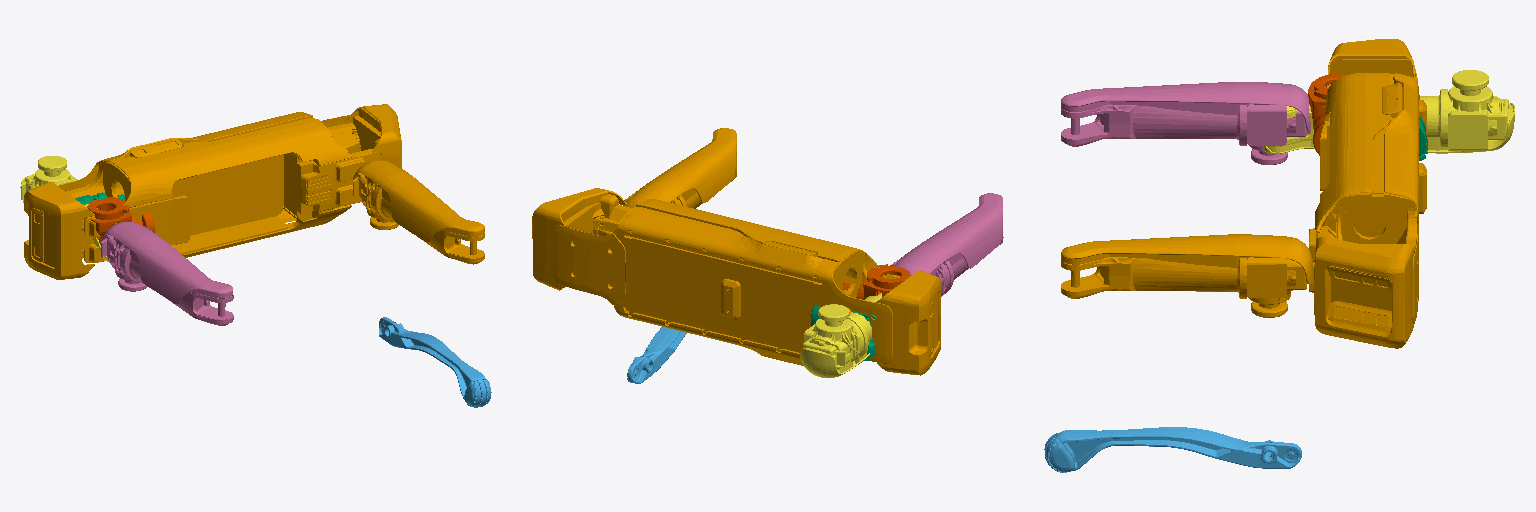
The robot description file, URDF, robot "spot":
<?xml version="1.0" ?>
<!-- =================================================================================== -->
<!-- |    This document was autogenerated by xacro from spot.urdf.xacro                | -->
<!-- |    EDITING THIS FILE BY HAND IS NOT RECOMMENDED                                 | -->
<!-- =================================================================================== -->
<robot name="spot">
  <mujoco>
    <compiler discardvisual="false"/>
  </mujoco>
  <!-- Body -->
  <link name="body">
    <visual>
      <geometry>
        <mesh filename="body.obj"/>
      </geometry>
    </visual>
    <collision>
      <geometry>
        <mesh filename="body_collision.stl"/>
      </geometry>
    </collision>
    <inertial>
      <mass value="16.25"/>
      <inertia ixx="0.085" ixy="0.0" ixz="0.0" iyy="1.045" iyz="0.0" izz="1.042"/>
    </inertial>
  </link>
  <!-- Base link -->
  <link name="base_link"/>
  <joint name="base_link_joint" type="fixed">
    <origin rpy="0 0 0" xyz="0 0 0"/>
    <parent link="body"/>
    <child link="base_link"/>
  </joint>
  <!-- Front rail -->
  <link name="front_rail"/>
  <joint name="front_rail_joint" type="fixed">
    <origin rpy="0 0 0" xyz="0.223 0 0.04505"/>
    <parent link="body"/>
    <child link="front_rail"/>
  </joint>
  <!-- Rear rail -->
  <link name="rear_rail"/>
  <joint name="rear_rail_joint" type="fixed">
    <origin rpy="0 0 0" xyz="-0.223 0 0.04505"/>
    <parent link="body"/>
    <child link="rear_rail"/>
  </joint>
  <!-- front_left_hip -->
  <link name="front_left_hip">
    <visual>
      <geometry>
        <mesh filename="front_left_hip.obj"/>
      </geometry>
    </visual>
    <collision>
      <geometry>
        <mesh filename="front_left_hip_collision.stl"/>
      </geometry>
    </collision>
    <inertial>
      <mass value="1.5"/>
      <inertia ixx="0.0605" ixy="0.0" ixz="0.0" iyy="0.0" iyz="0.0" izz="0.0"/>
    </inertial>
  </link>
  <joint name="front_left_hip_x" type="revolute">
    <origin rpy="0 0 0" xyz="0.29785 0.05500 0.00000"/>
    <axis xyz="1 0 0"/>
    <parent link="body"/>
    <child link="front_left_hip"/>
    <dynamics damping="0.1" friction="0.1"/>
    <limit effort="1000" lower="-0.78539816339744827899" upper="0.78539816339744827899" velocity="1000.00"/>
  </joint>
  <transmission name="front_left_hip_x_trans">
    <type>transmission_interface/SimpleTransmission</type>
    <joint name="front_left_hip_x">
      <hardwareInterface>EffortJointInterface</hardwareInterface>
    </joint>
    <actuator name="front_left_hip_x">
      <mechanicalReduction>50</mechanicalReduction>
      <hardwareInterface>EffortJointInterface</hardwareInterface>
    </actuator>
  </transmission>
  <!-- front_left_upper_leg -->
  <link name="front_left_upper_leg">
    <visual>
      <geometry>
        <mesh filename="front_left_upper_leg.obj"/>
      </geometry>
    </visual>
    <collision>
      <geometry>
        <mesh filename="front_left_upper_leg_collision.stl"/>
      </geometry>
    </collision>
    <inertial>
      <mass value="1.5"/>
      <inertia ixx="0.0" ixy="0.0" ixz="0.0" iyy="0.05" iyz="0.0" izz="0.0"/>
    </inertial>
  </link>
  <joint name="front_left_hip_y" type="revolute">
    <origin rpy="0 0 0" xyz="0.0 0.110945 0.0"/>
    <axis xyz="0 1 0"/>
    <parent link="front_left_hip"/>
    <child link="front_left_upper_leg"/>
    <dynamics damping="0.1" friction="0.1"/>
    <limit effort="1000" lower="-0.89884456477707963539" upper="2.2951079663725435509" velocity="1000.00"/>
  </joint>
  <transmission name="front_left_hip_y_trans">
    <type>transmission_interface/SimpleTransmission</type>
    <joint name="front_left_hip_y">
      <hardwareInterface>EffortJointInterface</hardwareInterface>
    </joint>
    <actuator name="front_left_hip_y">
      <mechanicalReduction>50</mechanicalReduction>
      <hardwareInterface>EffortJointInterface</hardwareInterface>
    </actuator>
  </transmission>
  <!-- front_left_lower_leg -->
  <link name="front_left_lower_leg">
    <visual>
      <geometry>
        <mesh filename="front_left_lower_leg.obj"/>
      </geometry>
    </visual>
    <collision name="front_left_lower_leg_fixed_joint_lump__front_bump_sensor">
      <geometry>
        <mesh filename="front_left_lower_leg_collision.stl"/>
      </geometry>
    </collision>
    <inertial>
      right
            
      <mass value="1.0"/>
      <inertia ixx="0.0" ixy="0.0" ixz="0.0" iyy="0.045" iyz="0.0" izz="0.0"/>
    </inertial>
  </link>
  <joint name="front_left_knee" type="revolute">
    <origin rpy="0 0 0" xyz="0.025 0.000 -0.3205"/>
    <axis xyz="0 1 0"/>
    <parent link="front_left_upper_leg"/>
    <child link="front_left_lower_leg"/>
    <dynamics damping="0.1" friction="0.1"/>
    <limit effort="1000" lower="-2.7929" upper="-0.254801" velocity="1000.00"/>
  </joint>
  <!-- Contact Sensor -->
  <gazebo reference="front_left_lower_leg">
    <sensor name="front_left_lower_leg_contactsensor_sensor" type="contact">
      <always_on>true</always_on>
      <contact>
        <collision>front_left_lower_leg_fixed_joint_lump__front_bump_sensor_collision</collision>
      </contact>
      <plugin filename="libgazebo_ros_bumper.so" name="front_left_lower_leg_plugin">
        <bumperTopicName>front_left_lower_leg_contact</bumperTopicName>
        <frameName>front_left_lower_leg</frameName>
      </plugin>
    </sensor>
  </gazebo>
  <transmission name="front_left_knee_trans">
    <type>transmission_interface/SimpleTransmission</type>
    <joint name="front_left_knee">
      <hardwareInterface>EffortJointInterface</hardwareInterface>
    </joint>
    <actuator name="front_left_knee">
      <mechanicalReduction>50</mechanicalReduction>
      <hardwareInterface>EffortJointInterface</hardwareInterface>
    </actuator>
  </transmission>
  <!--front_right_hip-->
  <link name="front_right_hip">
    <visual>
      <geometry>
        <mesh filename="front_right_hip.obj"/>
      </geometry>
    </visual>
    <collision>
      <geometry>
        <mesh filename="front_right_hip_collision.stl"/>
      </geometry>
    </collision>
    <inertial>
      <mass value="1.5"/>
      <inertia ixx="0.0605" ixy="0.0" ixz="0.0" iyy="0.0" iyz="0.0" izz="0.0"/>
    </inertial>
  </link>
  <joint name="front_right_hip_x" type="revolute">
    <origin rpy="0 0 0" xyz="0.29785 -0.05500 0.00000"/>
    <axis xyz="1 0 0"/>
    <parent link="body"/>
    <child link="front_right_hip"/>
    <dynamics damping="0.1" friction="0.1"/>
    <limit effort="1000" lower="-0.78539816339744827899" upper="0.78539816339744827899" velocity="1000.00"/>
  </joint>
  <transmission name="front_right_hip_x_trans">
    <type>transmission_interface/SimpleTransmission</type>
    <joint name="front_right_hip_x">
      <hardwareInterface>EffortJointInterface</hardwareInterface>
    </joint>
    <actuator name="front_right_hip_x">
      <mechanicalReduction>50</mechanicalReduction>
      <hardwareInterface>EffortJointInterface</hardwareInterface>
    </actuator>
  </transmission>
  <!-- front_right_upper_leg -->
  <link name="front_right_upper_leg">
    <visual>
      <geometry>
        <mesh filename="front_right_upper_leg.obj"/>
      </geometry>
    </visual>
    <collision>
      <geometry>
        <mesh filename="front_right_upper_leg_collision.stl"/>
      </geometry>
    </collision>
    <inertial>
      <mass value="1.5"/>
      <inertia ixx="0.0" ixy="0.0" ixz="0.0" iyy="0.05" iyz="0.0" izz="0.0"/>
    </inertial>
  </link>
  <joint name="front_right_hip_y" type="revolute">
    <origin rpy="0 0 0" xyz="0.0 -0.110945 0.0"/>
    <axis xyz="0 1 0"/>
    <parent link="front_right_hip"/>
    <child link="front_right_upper_leg"/>
    <dynamics damping="0.1" friction="0.1"/>
    <limit effort="1000" lower="-0.89884456477707963539" upper="2.2951079663725435509" velocity="1000.00"/>
  </joint>
  <transmission name="front_right_hip_y_trans">
    <type>transmission_interface/SimpleTransmission</type>
    <joint name="front_right_hip_y">
      <hardwareInterface>EffortJointInterface</hardwareInterface>
    </joint>
    <actuator name="front_right_hip_y">
      <mechanicalReduction>50</mechanicalReduction>
      <hardwareInterface>EffortJointInterface</hardwareInterface>
    </actuator>
  </transmission>
  <!-- front_right_lower_leg -->
  <link name="front_right_lower_leg">
    <visual>
      <geometry>
        <mesh filename="front_right_lower_leg.obj"/>
      </geometry>
    </visual>
    <collision name="front_right_lower_leg_fixed_joint_lump__front_bump_sensor">
      <geometry>
        <mesh filename="front_right_lower_leg_collision.stl"/>
      </geometry>
    </collision>
    <inertial>
      <mass value="1.0"/>
      <inertia ixx="0.0" ixy="0.0" ixz="0.0" iyy="0.045" iyz="0.0" izz="0.0"/>
    </inertial>
  </link>
  <joint name="front_right_knee" type="revolute">
    <origin rpy="0 0 0" xyz="0.025 0.000 -0.3205"/>
    <axis xyz="0 1 0"/>
    <parent link="front_right_upper_leg"/>
    <child link="front_right_lower_leg"/>
    <dynamics damping="0.1" friction="0.1"/>
    <limit effort="1000" lower="-2.7929" upper="-0.247563" velocity="1000.00"/>
  </joint>
  <!-- Contact Sensor -->
  <gazebo reference="front_right_lower_leg">
    <sensor name="front_right_lower_leg_contactsensor_sensor" type="contact">
      <always_on>true</always_on>
      <contact>
        <collision>front_right_lower_leg_fixed_joint_lump__front_bump_sensor_collision</collision>
      </contact>
      <plugin filename="libgazebo_ros_bumper.so" name="front_right_lower_leg_plugin">
        <bumperTopicName>front_right_lower_leg_contact</bumperTopicName>
        <frameName>front_right_lower_leg</frameName>
      </plugin>
    </sensor>
  </gazebo>
  <transmission name="front_right_knee_trans">
    <type>transmission_interface/SimpleTransmission</type>
    <joint name="front_right_knee">
      <hardwareInterface>EffortJointInterface</hardwareInterface>
    </joint>
    <actuator name="front_right_knee">
      <mechanicalReduction>50</mechanicalReduction>
      <hardwareInterface>EffortJointInterface</hardwareInterface>
    </actuator>
  </transmission>
  <!-- rear_left_hip -->
  <link name="rear_left_hip">
    <visual>
      <geometry>
        <mesh filename="rear_left_hip.obj"/>
      </geometry>
    </visual>
    <collision>
      <geometry>
        <mesh filename="rear_left_hip_collision.stl"/>
      </geometry>
    </collision>
    <inertial>
      <mass value="1.5"/>
      <inertia ixx="0.0605" ixy="0.0" ixz="0.0" iyy="0.0" iyz="0.0" izz="0.0"/>
    </inertial>
  </link>
  <joint name="rear_left_hip_x" type="revolute">
    <origin rpy="0 0 0" xyz="-0.29785 0.05500 0.00000"/>
    <axis xyz="1 0 0"/>
    <parent link="body"/>
    <child link="rear_left_hip"/>
    <dynamics damping="0.1" friction="0.1"/>
    <limit effort="1000" lower="-0.78539816339744827899" upper="0.78539816339744827899" velocity="1000.00"/>
  </joint>
  <transmission name="rear_left_hip_x_trans">
    <type>transmission_interface/SimpleTransmission</type>
    <joint name="rear_left_hip_x">
      <hardwareInterface>EffortJointInterface</hardwareInterface>
    </joint>
    <actuator name="rear_left_hip_x">
      <mechanicalReduction>50</mechanicalReduction>
      <hardwareInterface>EffortJointInterface</hardwareInterface>
    </actuator>
  </transmission>
  <!-- rear_left_upper_leg -->
  <link name="rear_left_upper_leg">
    <visual>
      <geometry>
        <mesh filename="rear_left_upper_leg.obj"/>
      </geometry>
    </visual>
    <collision>
      <geometry>
        <mesh filename="rear_left_upper_leg_collision.stl"/>
      </geometry>
    </collision>
    <inertial>
      <mass value="1.5"/>
      <inertia ixx="0.0" ixy="0.0" ixz="0.0" iyy="0.05" iyz="0.0" izz="0.0"/>
    </inertial>
  </link>
  <joint name="rear_left_hip_y" type="revolute">
    <origin rpy="0 0 0" xyz="0.0 0.110945 0.0"/>
    <axis xyz="0 1 0"/>
    <parent link="rear_left_hip"/>
    <child link="rear_left_upper_leg"/>
    <dynamics damping="0.1" friction="0.1"/>
    <limit effort="1000" lower="-0.89884456477707963539" upper="2.2951079663725435509" velocity="1000.00"/>
  </joint>
  <transmission name="rear_left_hip_y_trans">
    <type>transmission_interface/SimpleTransmission</type>
    <joint name="rear_left_hip_y">
      <hardwareInterface>EffortJointInterface</hardwareInterface>
    </joint>
    <actuator name="rear_left_hip_y">
      <mechanicalReduction>50</mechanicalReduction>
      <hardwareInterface>EffortJointInterface</hardwareInterface>
    </actuator>
  </transmission>
  <!-- rear_left_lower_leg -->
  <link name="rear_left_lower_leg">
    <visual>
      <geometry>
        <mesh filename="rear_left_lower_leg.obj"/>
      </geometry>
    </visual>
    <collision name="rear_left_lower_leg_fixed_joint_lump__rear_bump_sensor">
      <geometry>
        <mesh filename="rear_left_lower_leg_collision.stl"/>
      </geometry>
    </collision>
    <inertial>
      <mass value="1.0"/>
      <inertia ixx="0.0" ixy="0.0" ixz="0.0" iyy="0.045" iyz="0.0" izz="0.0"/>
    </inertial>
  </link>
  <joint name="rear_left_knee" type="revolute">
    <origin rpy="0 0 0" xyz="0.025 0.000 -0.3205"/>
    <axis xyz="0 1 0"/>
    <parent link="rear_left_upper_leg"/>
    <child link="rear_left_lower_leg"/>
    <dynamics damping="0.1" friction="0.1"/>
    <limit effort="1000" lower="-2.7929" upper="-0.267153" velocity="1000.00"/>
  </joint>
  <!-- Contact Sensor -->
  <gazebo reference="rear_left_lower_leg">
    <sensor name="rear_left_lower_leg_contactsensor_sensor" type="contact">
      <always_on>true</always_on>
      <contact>
        <collision>rear_left_lower_leg_fixed_joint_lump__rear_bump_sensor_collision</collision>
      </contact>
      <plugin filename="libgazebo_ros_bumper.so" name="rear_left_lower_leg_plugin">
        <bumperTopicName>rear_left_lower_leg_contact</bumperTopicName>
        <frameName>rear_left_lower_leg</frameName>
      </plugin>
    </sensor>
  </gazebo>
  <transmission name="rear_left_knee_trans">
    <type>transmission_interface/SimpleTransmission</type>
    <joint name="rear_left_knee">
      <hardwareInterface>EffortJointInterface</hardwareInterface>
    </joint>
    <actuator name="rear_left_knee">
      <mechanicalReduction>50</mechanicalReduction>
      <hardwareInterface>EffortJointInterface</hardwareInterface>
    </actuator>
  </transmission>
  <!-- rear_right_hip -->
  <link name="rear_right_hip">
    <visual>
      <geometry>
        <mesh filename="rear_right_hip.obj"/>
      </geometry>
    </visual>
    <collision>
      <geometry>
        <mesh filename="rear_right_hip_collision.stl"/>
      </geometry>
    </collision>
    <inertial>
      <mass value="1.5"/>
      <inertia ixx="0.0605" ixy="0.0" ixz="0.0" iyy="0.0" iyz="0.0" izz="0.0"/>
    </inertial>
  </link>
  <joint name="rear_right_hip_x" type="revolute">
    <origin rpy="0 0 0" xyz="-0.29785 -0.05500 0.00000"/>
    <axis xyz="1 0 0"/>
    <parent link="body"/>
    <child link="rear_right_hip"/>
    <dynamics damping="0.1" friction="0.1"/>
    <limit effort="1000" lower="-0.78539816339744827899" upper="0.78539816339744827899" velocity="1000.00"/>
  </joint>
  <transmission name="rear_right_hip_x_trans">
    <type>transmission_interface/SimpleTransmission</type>
    <joint name="rear_right_hip_x">
      <hardwareInterface>EffortJointInterface</hardwareInterface>
    </joint>
    <actuator name="rear_right_hip_x">
      <mechanicalReduction>50</mechanicalReduction>
      <hardwareInterface>EffortJointInterface</hardwareInterface>
    </actuator>
  </transmission>
  <!-- rear_right_upper_leg -->
  <link name="rear_right_upper_leg">
    <visual>
      <geometry>
        <mesh filename="rear_right_upper_leg.obj"/>
      </geometry>
    </visual>
    <collision>
      <geometry>
        <mesh filename="rear_right_upper_leg_collision.stl"/>
      </geometry>
    </collision>
    <inertial>
      <mass value="1.5"/>
      <inertia ixx="0.0" ixy="0.0" ixz="0.0" iyy="0.05" iyz="0.0" izz="0.0"/>
    </inertial>
  </link>
  <joint name="rear_right_hip_y" type="revolute">
    <origin rpy="0 0 0" xyz="0.0 -0.110945 0.0"/>
    <axis xyz="0 1 0"/>
    <parent link="rear_right_hip"/>
    <child link="rear_right_upper_leg"/>
    <dynamics damping="0.1" friction="0.1"/>
    <limit effort="1000" lower="-0.89884456477707963539" upper="2.2951079663725435509" velocity="1000.00"/>
  </joint>
  <transmission name="rear_right_hip_y_trans">
    <type>transmission_interface/SimpleTransmission</type>
    <joint name="rear_right_hip_y">
      <hardwareInterface>EffortJointInterface</hardwareInterface>
    </joint>
    <actuator name="rear_right_hip_y">
      <mechanicalReduction>50</mechanicalReduction>
      <hardwareInterface>EffortJointInterface</hardwareInterface>
    </actuator>
  </transmission>
  <!-- rear_right_lower_leg -->
  <link name="rear_right_lower_leg">
    <visual>
      <geometry>
        <mesh filename="rear_right_lower_leg.obj"/>
      </geometry>
    </visual>
    <collision name="rear_right_lower_leg_fixed_joint_lump__rear_bump_sensor">
      <geometry>
        <mesh filename="rear_right_lower_leg_collision.stl"/>
      </geometry>
    </collision>
    <inertial>
      <mass value="1.0"/>
      <inertia ixx="0.0" ixy="0.0" ixz="0.0" iyy="0.045" iyz="0.0" izz="0.0"/>
    </inertial>
  </link>
  <joint name="rear_right_knee" type="revolute">
    <origin rpy="0 0 0" xyz="0.025 0.000 -0.3205"/>
    <axis xyz="0 1 0"/>
    <parent link="rear_right_upper_leg"/>
    <child link="rear_right_lower_leg"/>
    <dynamics damping="0.1" friction="0.1"/>
    <limit effort="1000" lower="-2.7929" upper="-0.257725" velocity="1000.00"/>
  </joint>
  <!-- Contact Sensor -->
  <gazebo reference="rear_right_lower_leg">
    <sensor name="rear_right_lower_leg_contactsensor_sensor" type="contact">
      <always_on>true</always_on>
      <contact>
        <collision>rear_right_lower_leg_fixed_joint_lump__rear_bump_sensor_collision</collision>
      </contact>
      <plugin filename="libgazebo_ros_bumper.so" name="rear_right_lower_leg_plugin">
        <bumperTopicName>rear_right_lower_leg_contact</bumperTopicName>
        <frameName>rear_right_lower_leg</frameName>
      </plugin>
    </sensor>
  </gazebo>
  <transmission name="rear_right_knee_trans">
    <type>transmission_interface/SimpleTransmission</type>
    <joint name="rear_right_knee">
      <hardwareInterface>EffortJointInterface</hardwareInterface>
    </joint>
    <actuator name="rear_right_knee">
      <mechanicalReduction>50</mechanicalReduction>
      <hardwareInterface>EffortJointInterface</hardwareInterface>
    </actuator>
  </transmission>
  <gazebo>
    <plugin filename="libgazebo_ros_control.so" name="gazebo_ros_control">
      <!--    	<robotNamespace>/spot1</robotNamespace>-->
    </plugin>
  </gazebo>
</robot>

--- What the picture shows (computed from the rendered views, not written in the file) ---
Views: 3 orthographic renders of the robot side by side, from view 1: azimuth 30°, elevation 25°; view 2: azimuth 150°, elevation 25°; view 3: azimuth 270°, elevation 25°.
Model spot with 16 links and 15 joints (12 revolute, 3 fixed), rooted at body, posed joints at zero except 4 at the middle of their limits (front_left_knee = -1.52, front_right_knee = -1.52, rear_left_knee = -1.53, rear_right_knee = -1.53).
Visible links, largest first — view 1: body, rear_right_upper_leg, front_right_upper_leg, front_right_lower_leg, rear_right_hip, rear_left_upper_leg; view 2: body, rear_right_upper_leg, front_right_upper_leg, rear_left_upper_leg, front_right_lower_leg, rear_right_hip; view 3: body, front_right_upper_leg, rear_right_upper_leg, rear_left_upper_leg, front_right_lower_leg, rear_right_hip.
Boxes of the visible links, left/top/right/bottom form: body: left=24, top=104, right=401, bottom=279; rear_right_upper_leg: left=101, top=222, right=233, bottom=325; front_right_upper_leg: left=353, top=160, right=484, bottom=264; front_right_lower_leg: left=379, top=317, right=491, bottom=407; rear_right_hip: left=84, top=197, right=154, bottom=244; rear_left_upper_leg: left=20, top=156, right=110, bottom=263; body: left=532, top=188, right=940, bottom=375; rear_right_upper_leg: left=890, top=193, right=1003, bottom=296; front_right_upper_leg: left=623, top=128, right=736, bottom=208; rear_left_upper_leg: left=800, top=293, right=881, bottom=377; front_right_lower_leg: left=627, top=327, right=686, bottom=383; rear_right_hip: left=843, top=264, right=911, bottom=299; body: left=1309, top=39, right=1426, bottom=348; front_right_upper_leg: left=1061, top=234, right=1313, bottom=317; rear_right_upper_leg: left=1061, top=82, right=1310, bottom=164; rear_left_upper_leg: left=1263, top=70, right=1514, bottom=153; front_right_lower_leg: left=1044, top=427, right=1301, bottom=472; rear_right_hip: left=1308, top=74, right=1344, bottom=155.
Bounding box of the posed robot: 0.8724 × 0.777 × 0.4752 m (x, y, z).
7 mesh visuals loaded from 13 distinct referenced files (7 OBJ); not drawn: 6 (reference not matched to a file when rendering).